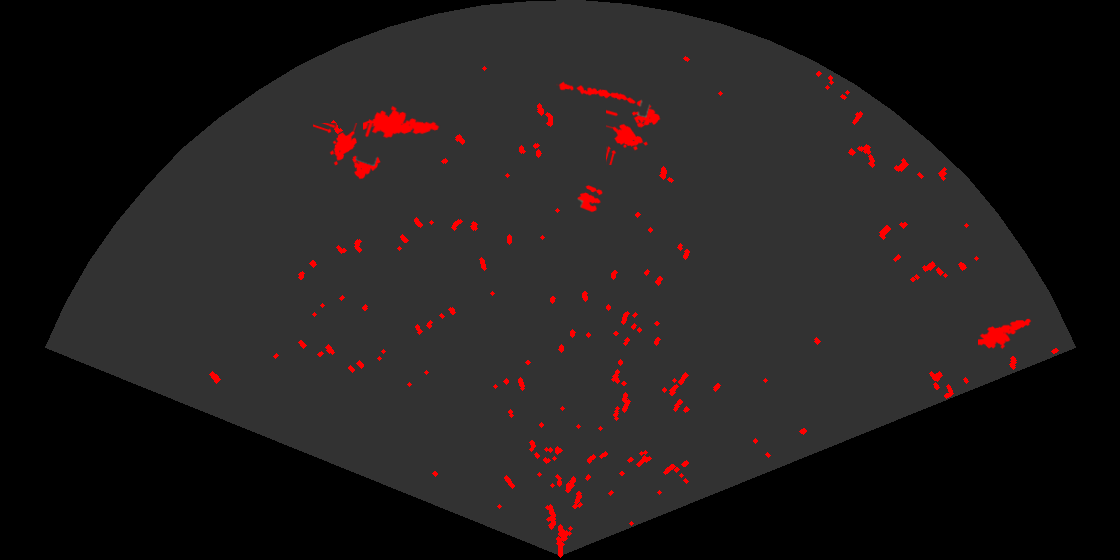ball: (576, 184, 604, 214)
cage: (313, 123, 382, 181), (606, 98, 662, 165)
chain: (556, 80, 638, 105)
frogman: (363, 104, 441, 140), (978, 317, 1033, 351)
